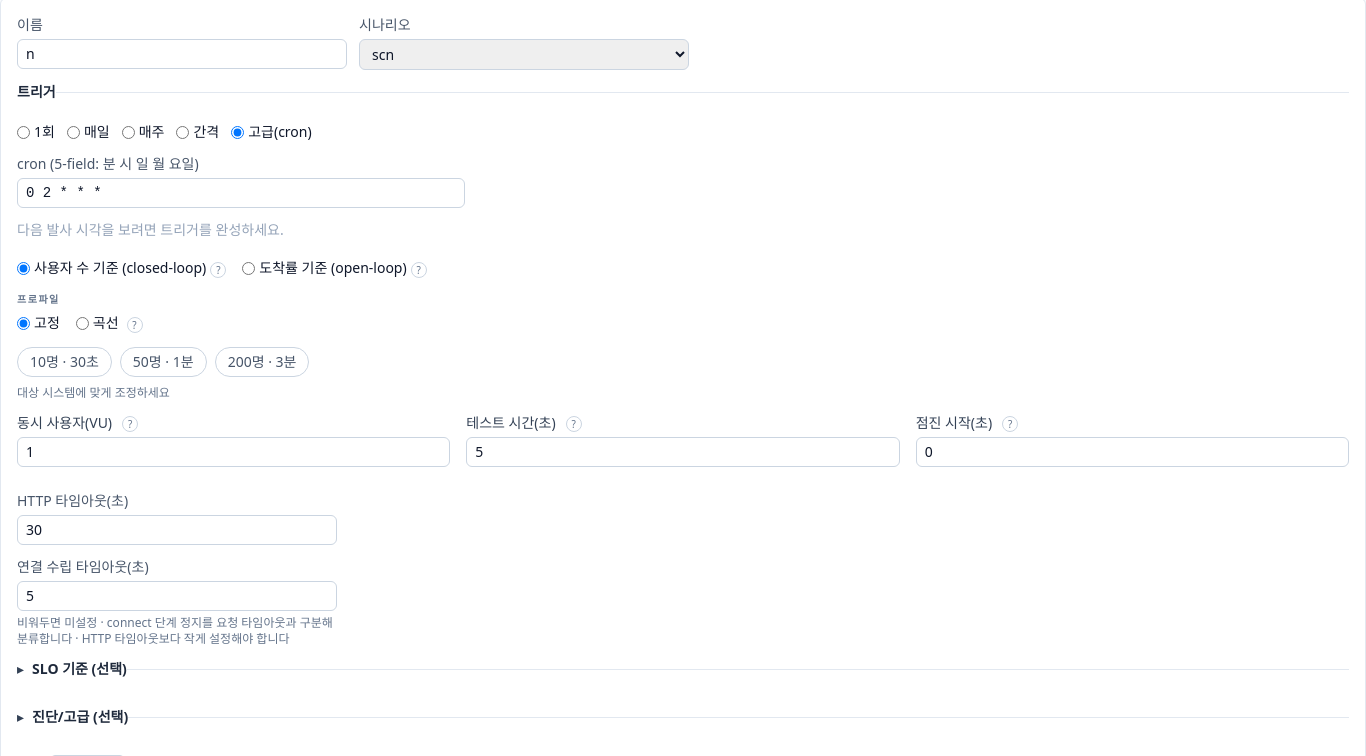
Test: ScheduleForm › connect_timeout이 http_timeout 이상이면 저장을 막고 일반 검증 문구를 보인다
Step 1. Replace the text in the number field labelled "HTTP 타임아웃(초)" with "3" → (177, 530), box [17,515,337,545]
(page scrolled)
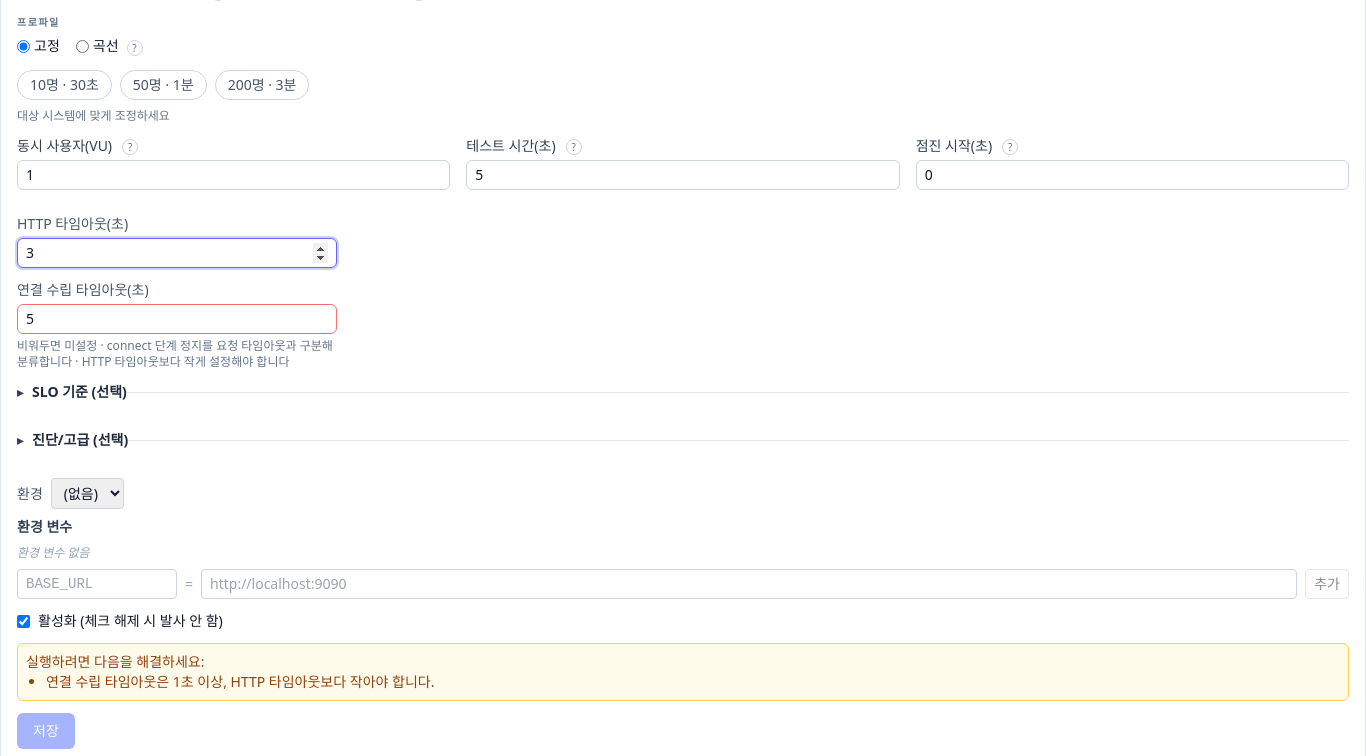
Expected: the button "저장" is disabled, [17,713,75,749]
Expected: the list item "연결 수립 타임아웃은 1초 이상, HTTP 타임아웃보다 작아야 합니다." is shown, [46,672,434,691]
